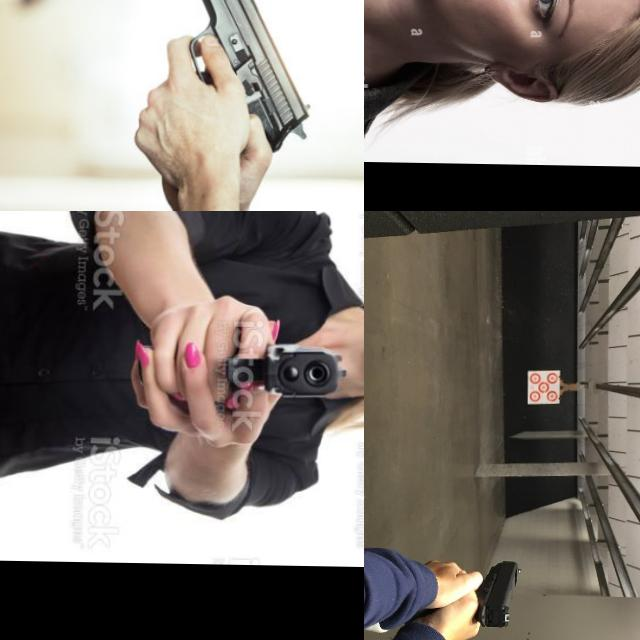handgun: (175, 0, 317, 158), (375, 0, 563, 57), (222, 336, 350, 404), (471, 556, 522, 634)
